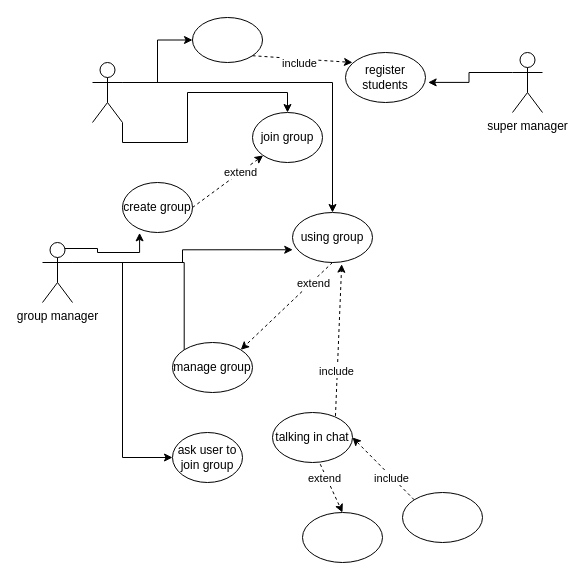
Image size: 585x580. Some labels were removed from this diagram. The centre of each missing label's shape, as x and y in pixels:
"login" belongs at point 227,39.
"receive file" belongs at point 442,517.
"std user" belongs at point 107,92.
"upload file" belongs at point 342,537.
